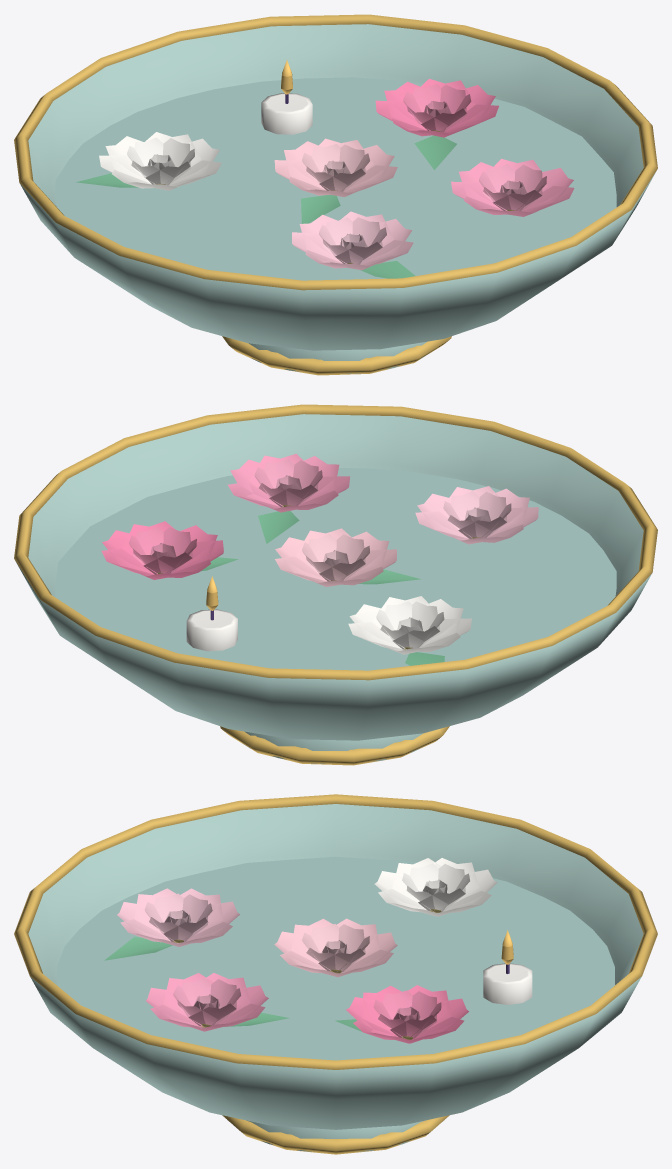
Rendered from bowl_floating_blossoms.glb.
3 views of the same model, one above another, from view 1: azimuth 30°, elevation 25°; view 2: azimuth 150°, elevation 25°; view 3: azimuth 270°, elevation 25° (orthographic).
Parts seen in each view (by area): view 1: bowl_floating_blossoms; view 2: bowl_floating_blossoms; view 3: bowl_floating_blossoms.
Boxes of the visible parts, x1,y1,x2,y2 form: bowl_floating_blossoms: (14,14,657,375); bowl_floating_blossoms: (14,404,657,765); bowl_floating_blossoms: (14,794,657,1154).
Size of what is drawn, in the model's own units: 0.45 by 0.15 by 0.45.
